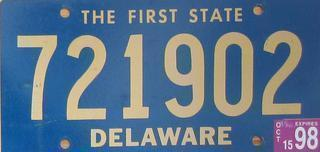placa de veiculo: (8, 1, 314, 151)
